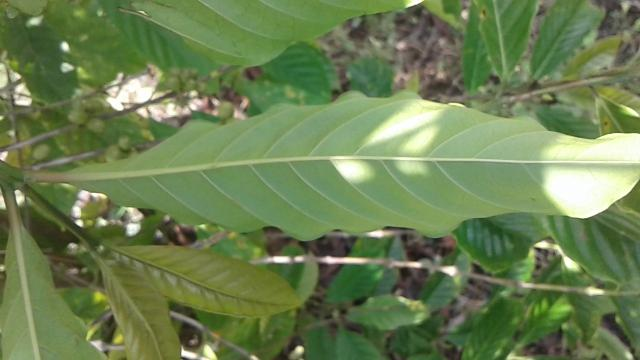healthy: (51, 84, 640, 246)
